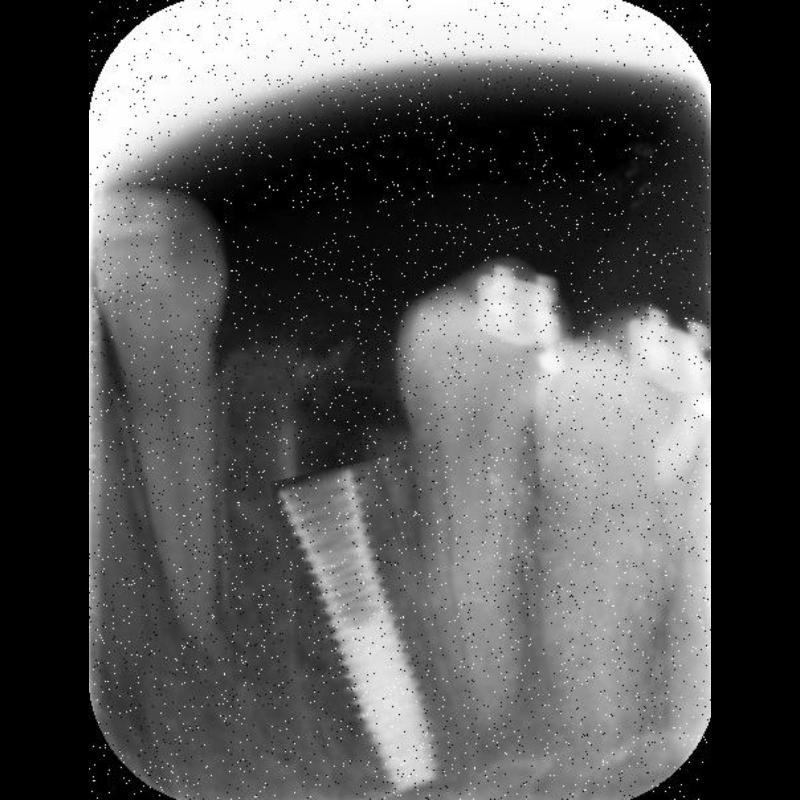Dentium: (286, 462, 439, 800)
